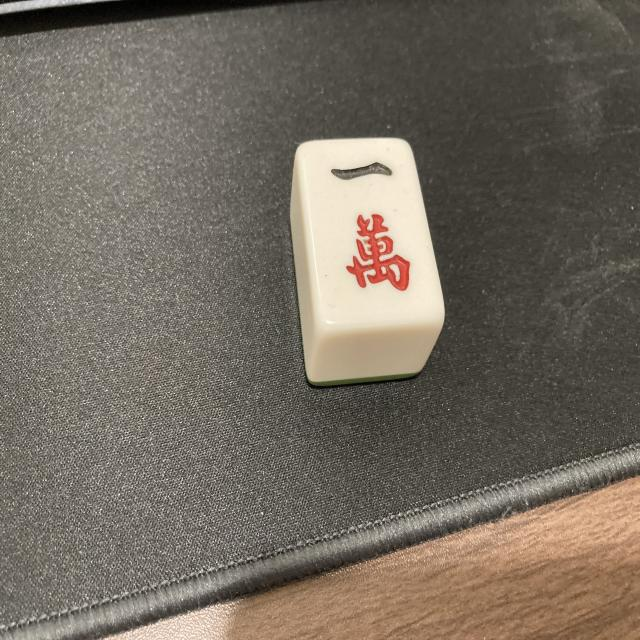m1: (302, 143, 441, 327)
